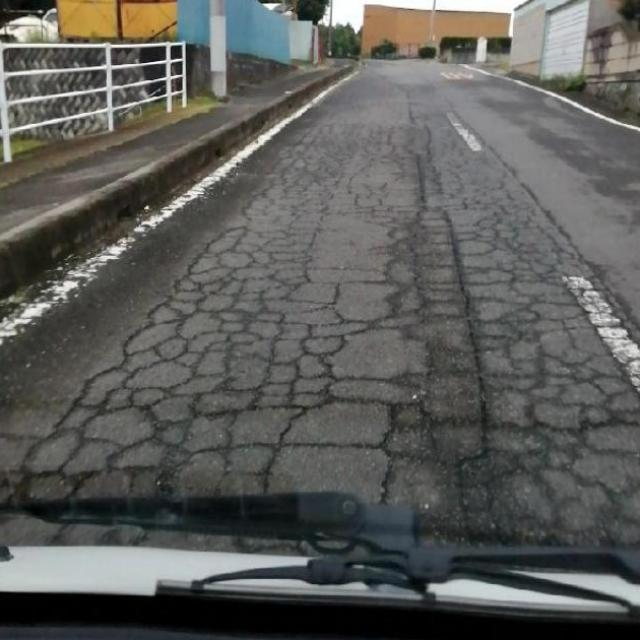Retak Buaya: (18, 119, 640, 542)
